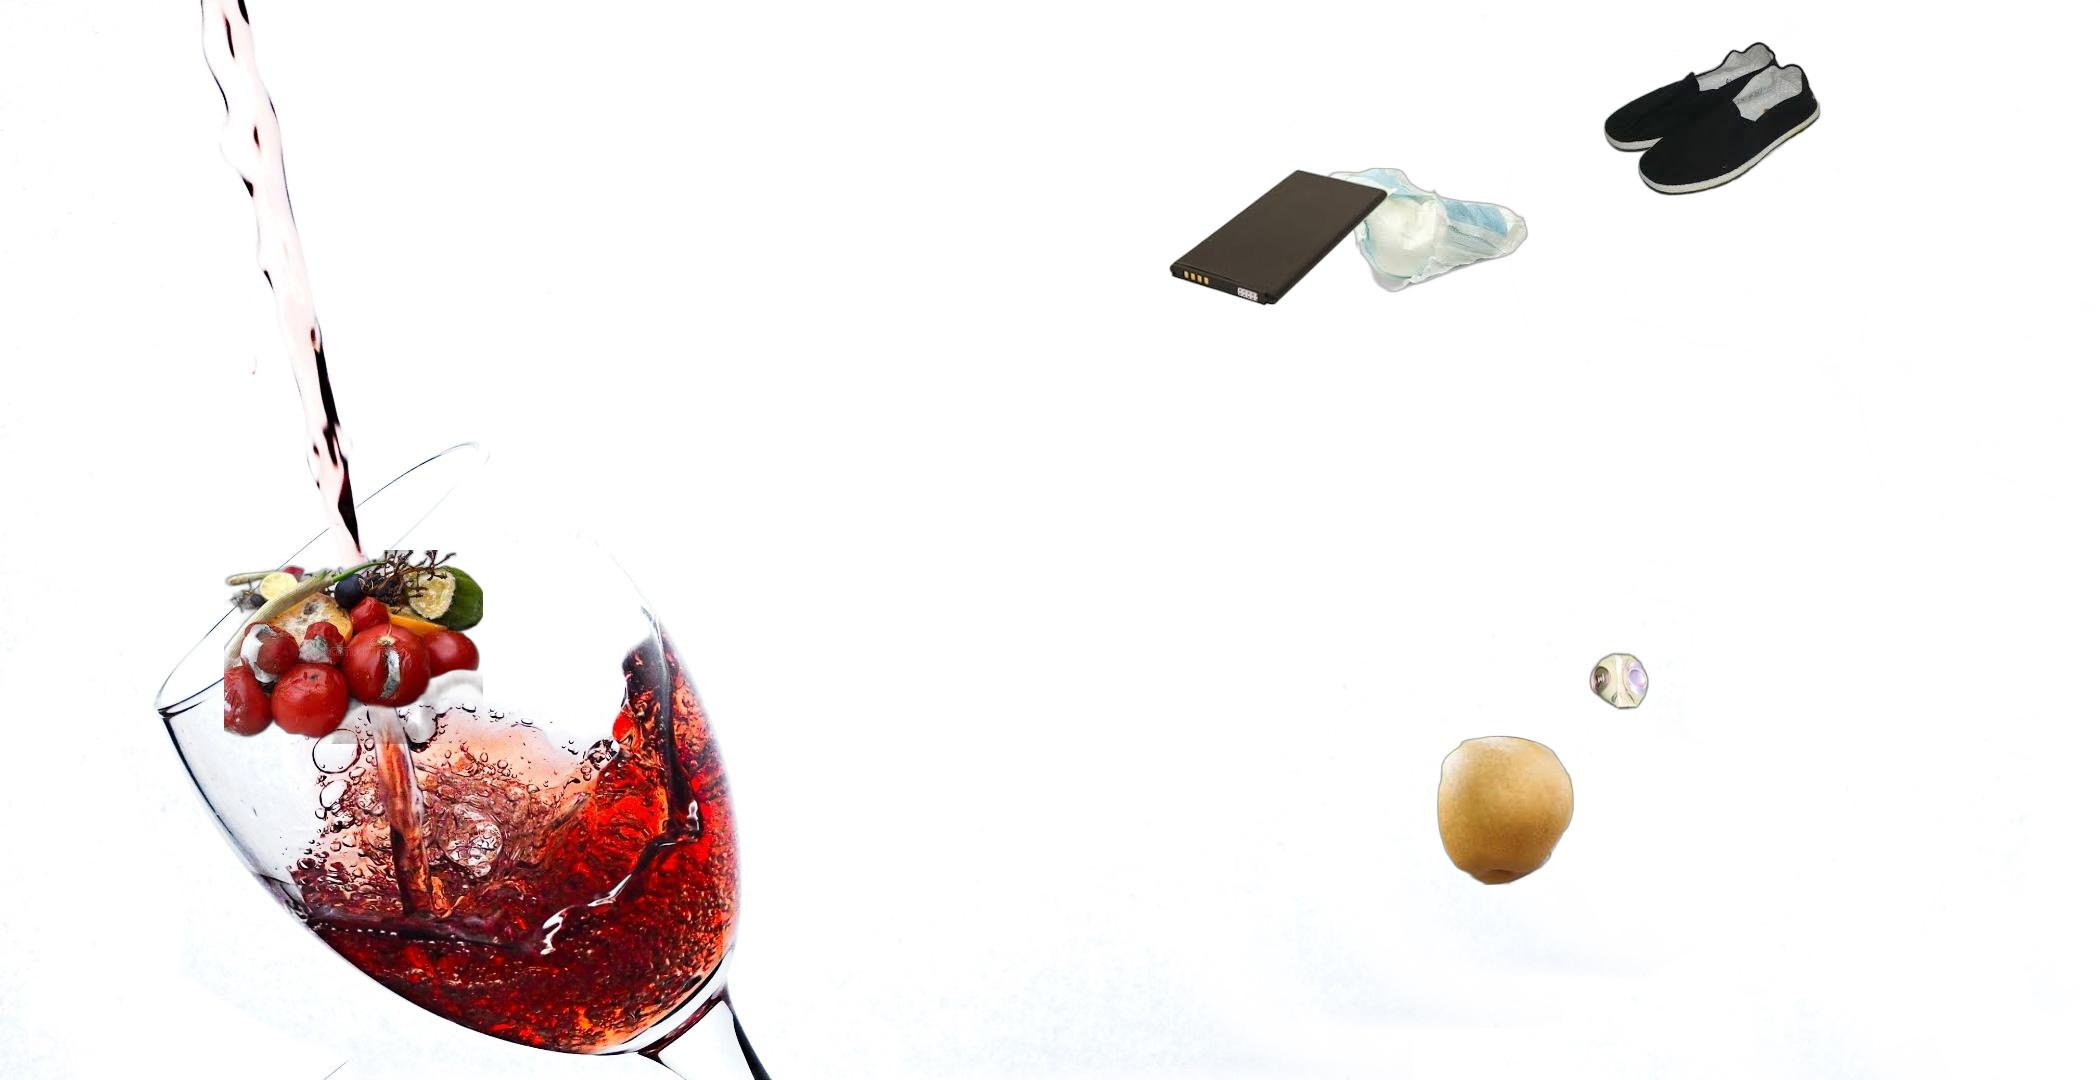battery: (1166, 167, 1389, 309)
biological: (224, 550, 483, 744), (1434, 733, 1575, 884)
metal-cans: (1586, 647, 1652, 714)
plastic-bag: (1443, 759, 1524, 871)
shoes: (1602, 39, 1823, 198)
trash: (1323, 165, 1530, 295)
